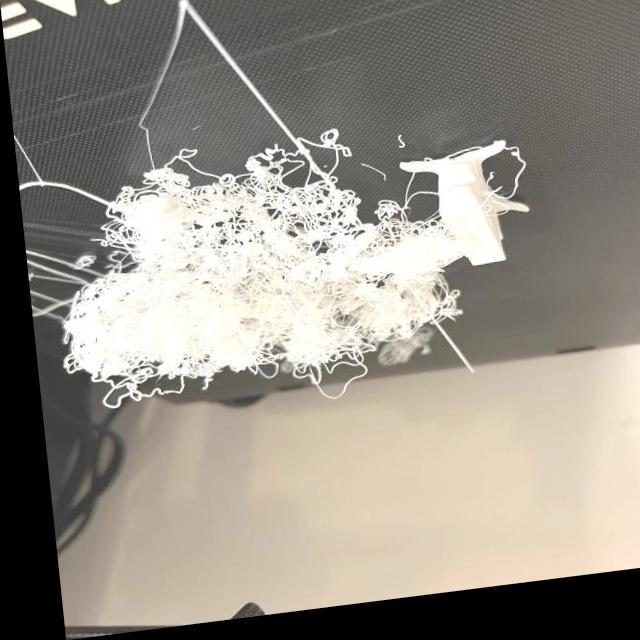spaghetti: (73, 172, 435, 396)
